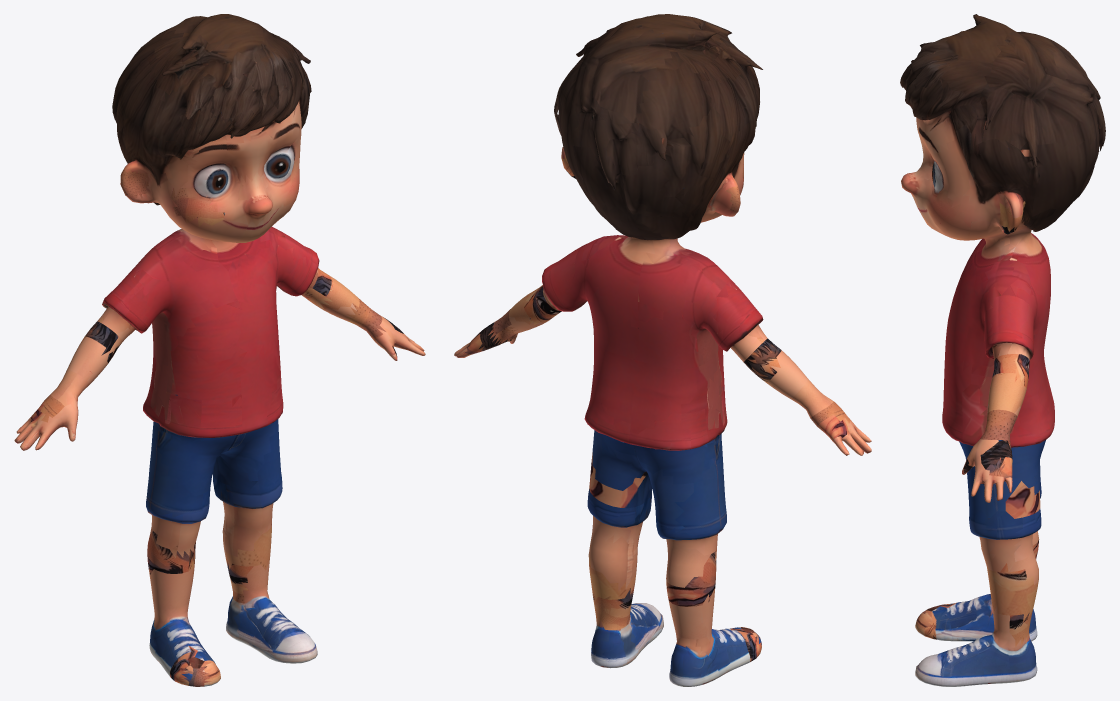
File: bunker-technician.glb
3 renders of one model, left to right at view 1: azimuth 30°, elevation 25°; view 2: azimuth 150°, elevation 25°; view 3: azimuth 270°, elevation 25°, orthographic. The views are drawn at different scales.
Visible parts, largest first — view 1: input; view 2: input; view 3: input.
Boxes of the visible parts, box(x1,y1,x2,y2) form: input: box(14, 14, 425, 686); input: box(454, 14, 871, 686); input: box(900, 14, 1105, 686).
Bounding box in the file's own units: 1.35 × 1.99 × 0.5952.
Materials: 1 (1 with a texture image).
